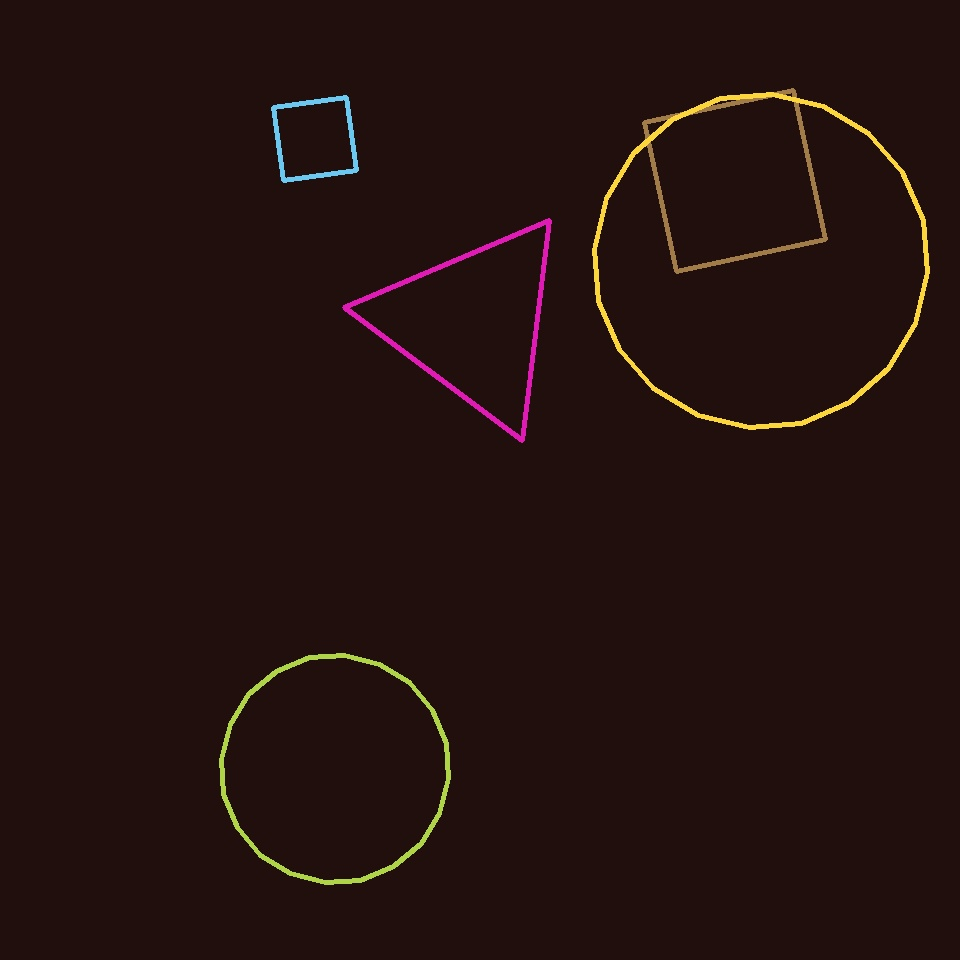circle: (370, 213, 574, 433)
square: (644, 90, 826, 272), (274, 98, 356, 181)
triangle: (594, 94, 928, 428), (222, 656, 448, 882)
